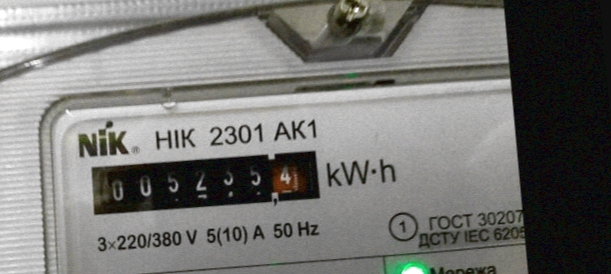0: (107, 177, 125, 204), (136, 173, 152, 199)
2: (191, 167, 207, 193)
3: (218, 162, 234, 188)
4: (275, 161, 293, 188)
5: (245, 161, 263, 189), (163, 169, 180, 196)
screen: (78, 138, 332, 229)
